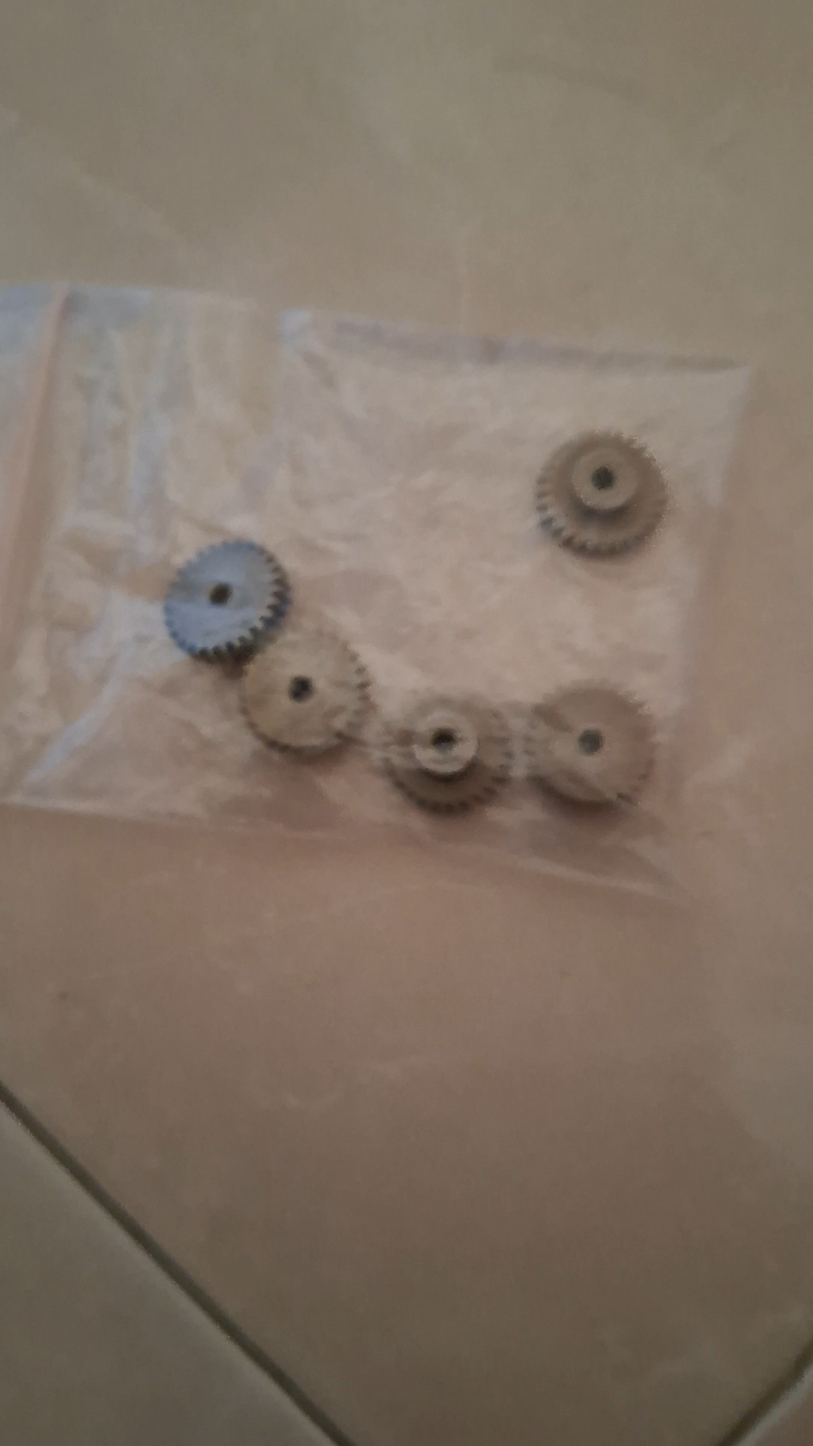spur gear: (537, 432, 666, 554), (242, 629, 368, 753), (164, 540, 289, 660), (527, 684, 652, 804), (382, 697, 512, 812)
